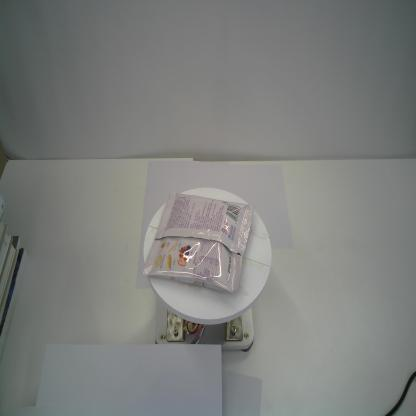Instant Drink: (140, 192, 255, 296)
